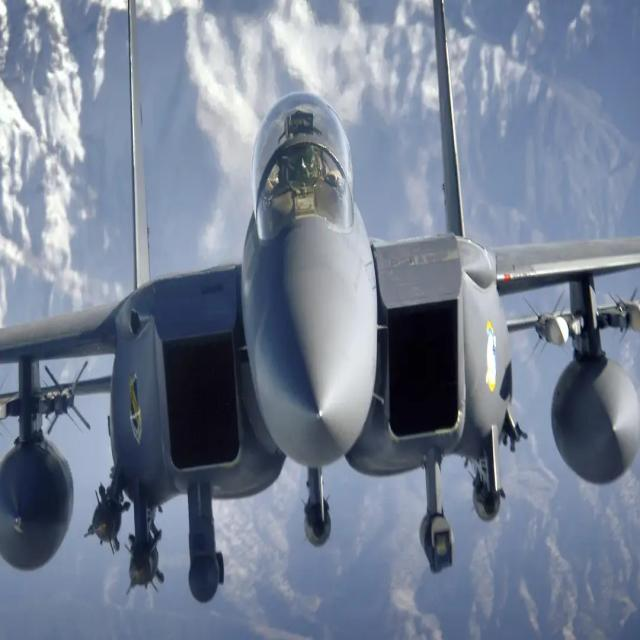F15: (0, 5, 640, 636)
